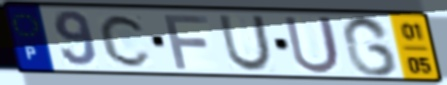9: (50, 8, 100, 70)
C: (97, 12, 155, 69)
F: (160, 12, 212, 71)
G: (340, 14, 401, 79)
U: (281, 15, 343, 76), (216, 13, 275, 73)
